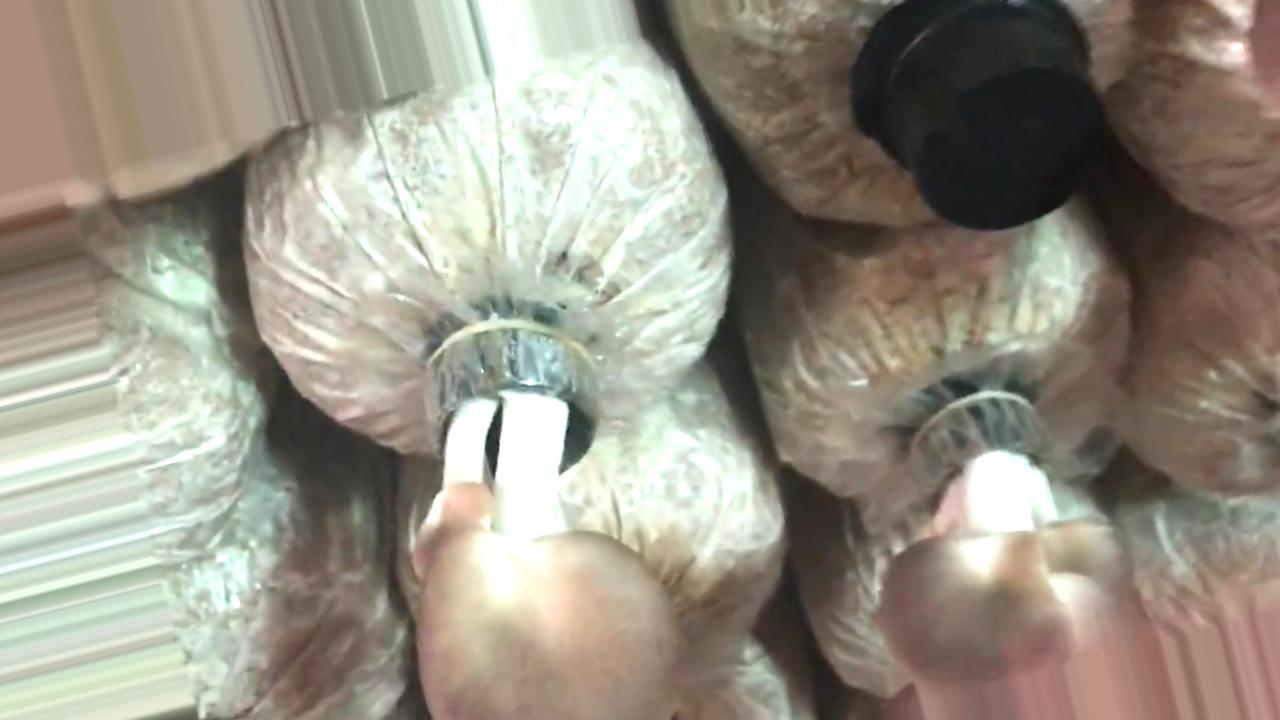nam: (422, 323, 678, 720), (879, 396, 1115, 681)
